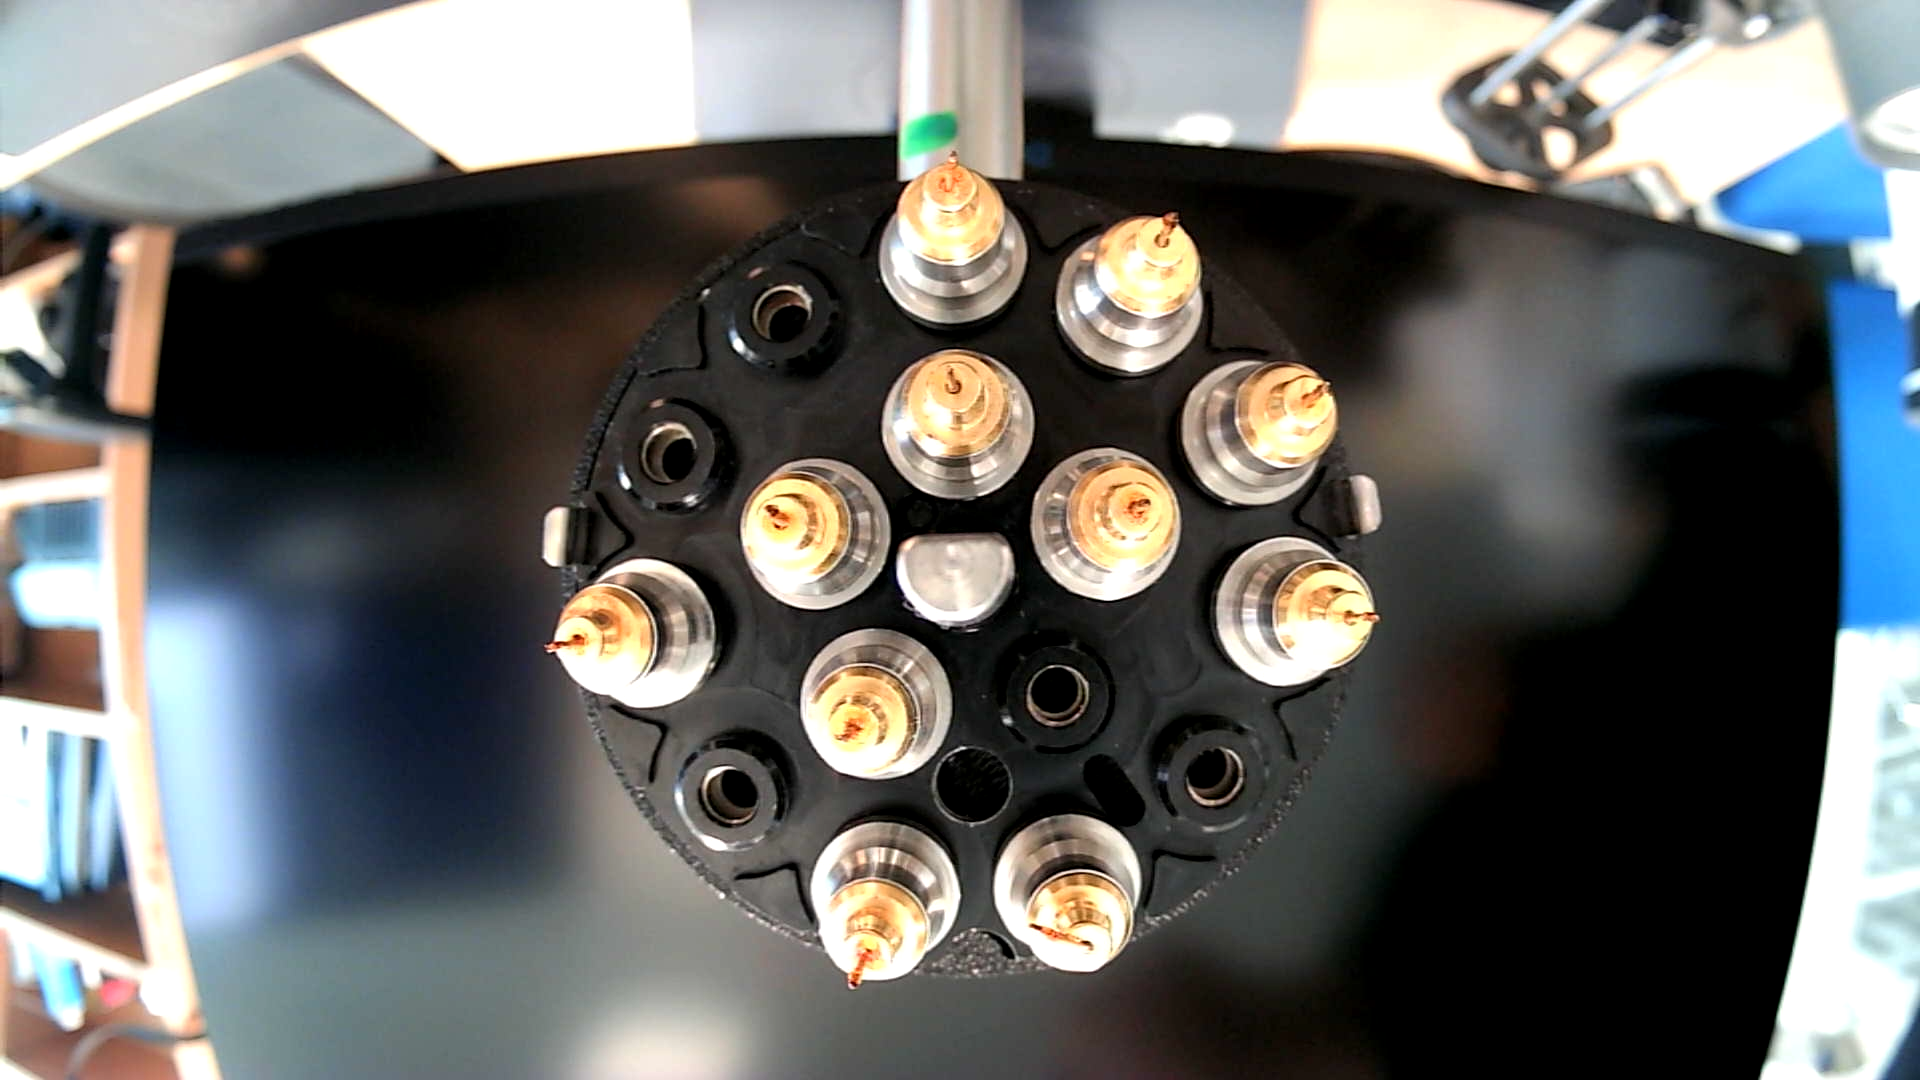bent: (992, 811, 1150, 981)
empty: (1145, 698, 1279, 837), (717, 256, 857, 384), (669, 725, 799, 858), (603, 396, 740, 522), (996, 637, 1116, 748)
hole: (928, 742, 1015, 829)
pin: (541, 553, 725, 711), (807, 814, 963, 992), (1205, 533, 1377, 690), (880, 153, 1033, 328), (1055, 208, 1207, 380), (796, 625, 956, 782), (877, 345, 1036, 502), (1029, 446, 1183, 605), (1178, 359, 1337, 513), (738, 455, 894, 611)
rod: (893, 527, 1019, 633)
